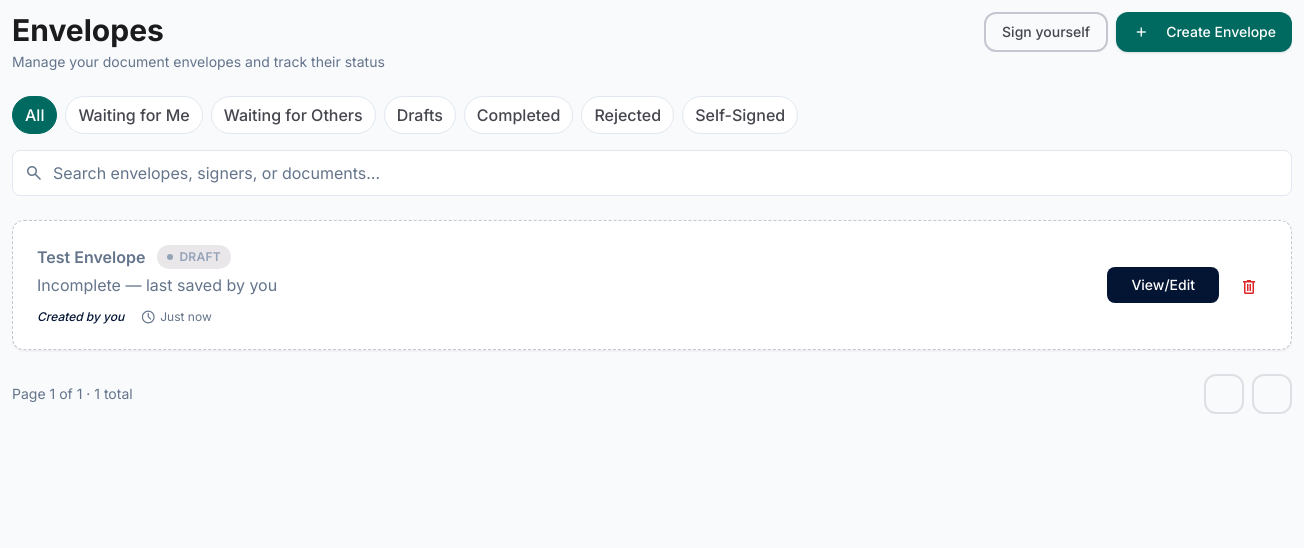
Scenario: Envelopes Pages › shows a filter-specific empty state instead of a false global empty state
Click the button "Waiting for Me" at x=134, y=115, box [65, 96, 203, 134]
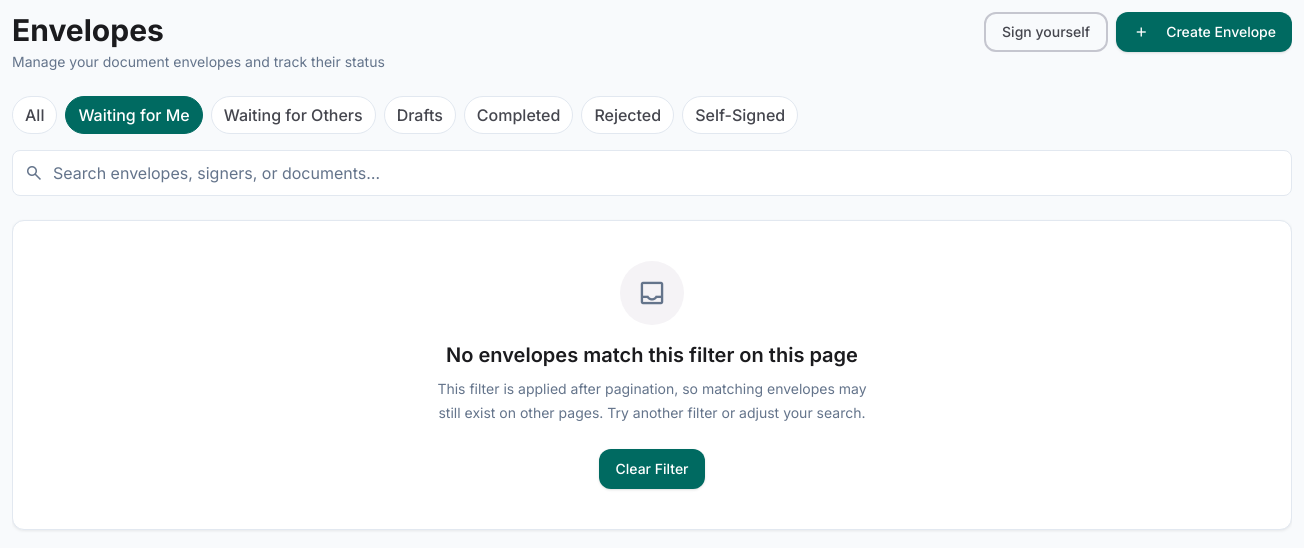
Now the heading "No envelopes match this filter on this page" is shown, box [446, 341, 858, 369]
Now the text "This filter is applied after pagination, so matching envelopes may still exist on other pages" is shown, box [437, 380, 867, 421]
